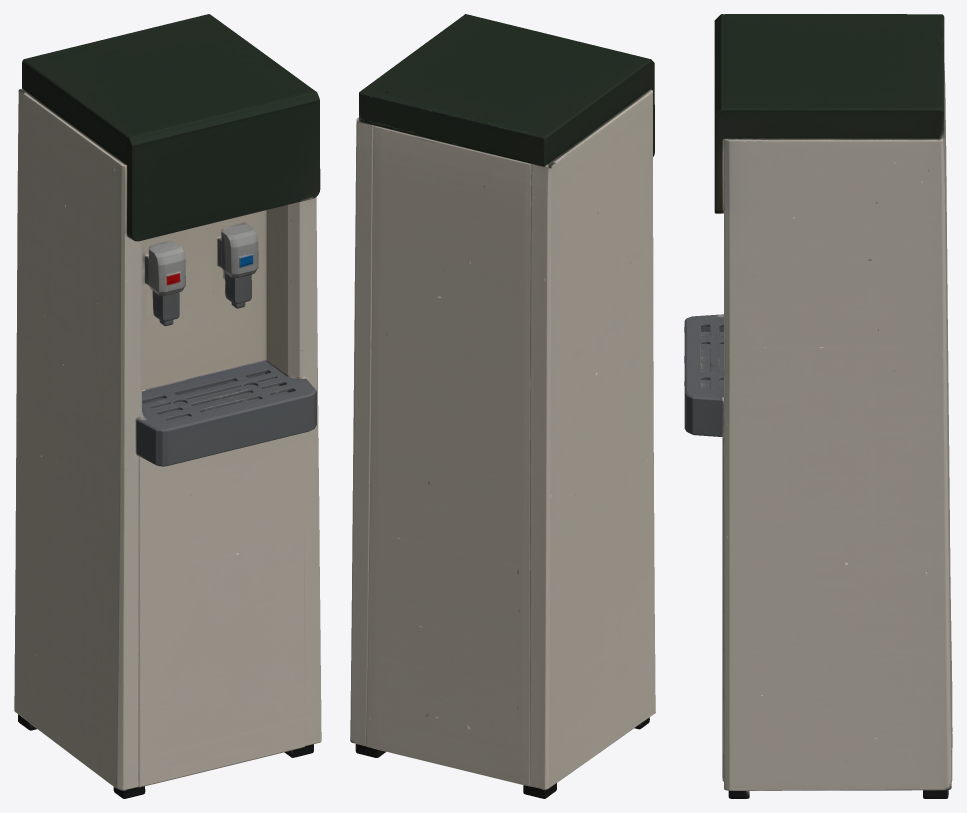
File: water_cooler__hunyuan.glb
The picture shows the model from 3 angles, left to right: view 1: azimuth 30°, elevation 25°; view 2: azimuth 150°, elevation 25°; view 3: azimuth 270°, elevation 25°; orthographic projection. The views are drawn at different scales.
Visible parts, largest first — view 1: material; view 2: material; view 3: material.
Boxes of the visible parts, bbox=[...] form: material: bbox=[14, 14, 321, 798]; material: bbox=[350, 14, 655, 798]; material: bbox=[684, 14, 952, 798].
Bounding box in the file's own units: 0.3523 × 1.09 × 0.3852.
Materials: 1 (1 with a texture image).
